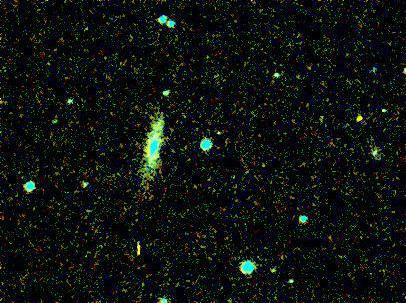star: (343, 103, 373, 133)
